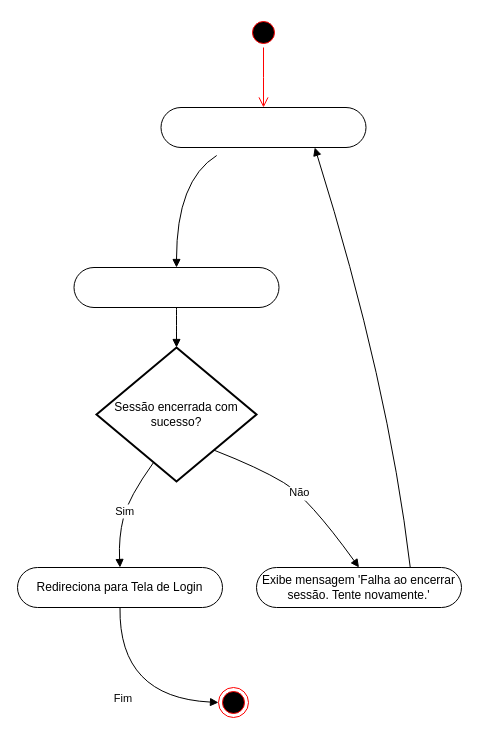
Some shapes in this 479 by 735 pixel diagram are drawn without their labels. Here are the shapes that lost their labels. From the top down, the centre of each, then its label:
At point (263, 127): "Seleciona opção 'Logout'".
At point (176, 287): "Tenta encerrar sessão do usuário".
